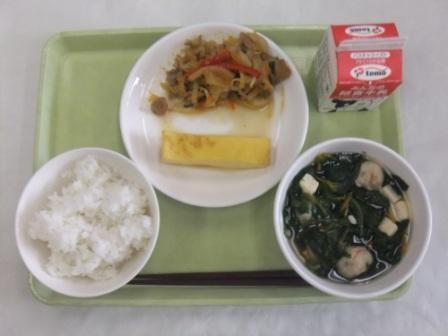Milk: (314, 12, 415, 118)
Rice: (14, 152, 161, 292)
Soups: (283, 134, 433, 287)
snacks: (150, 124, 281, 177)
vegetable based cooked food: (160, 31, 292, 113)
